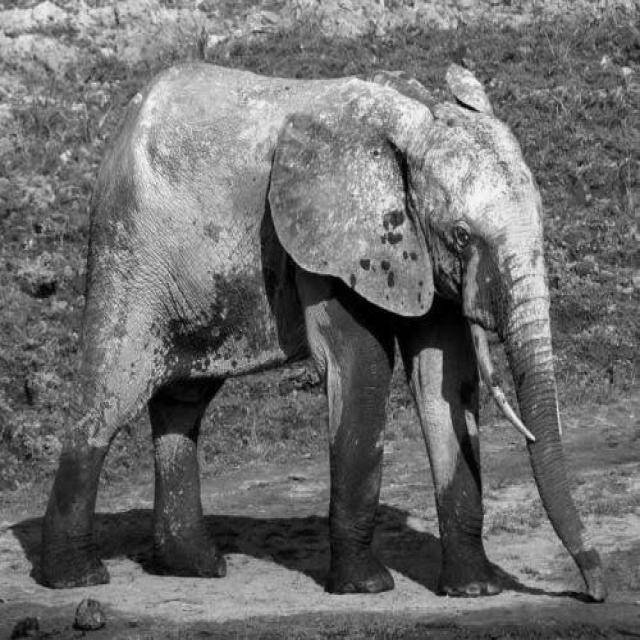Elephant: (37, 59, 608, 602)
